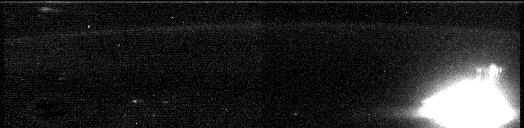positive: (471, 59, 506, 82)
